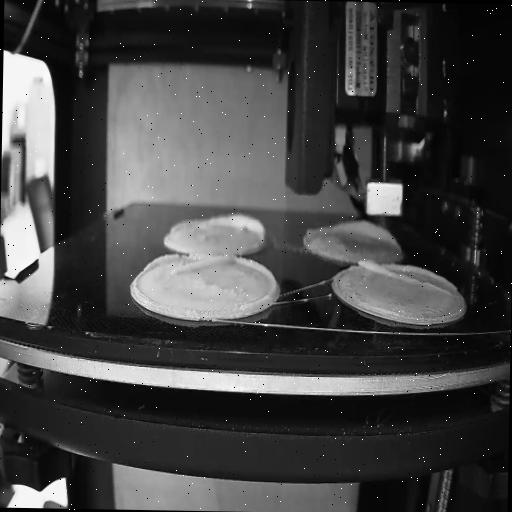over_extrusion: (358, 258, 449, 298), (304, 220, 402, 252), (233, 256, 279, 310), (208, 211, 268, 252), (145, 253, 232, 278), (169, 216, 195, 236)
